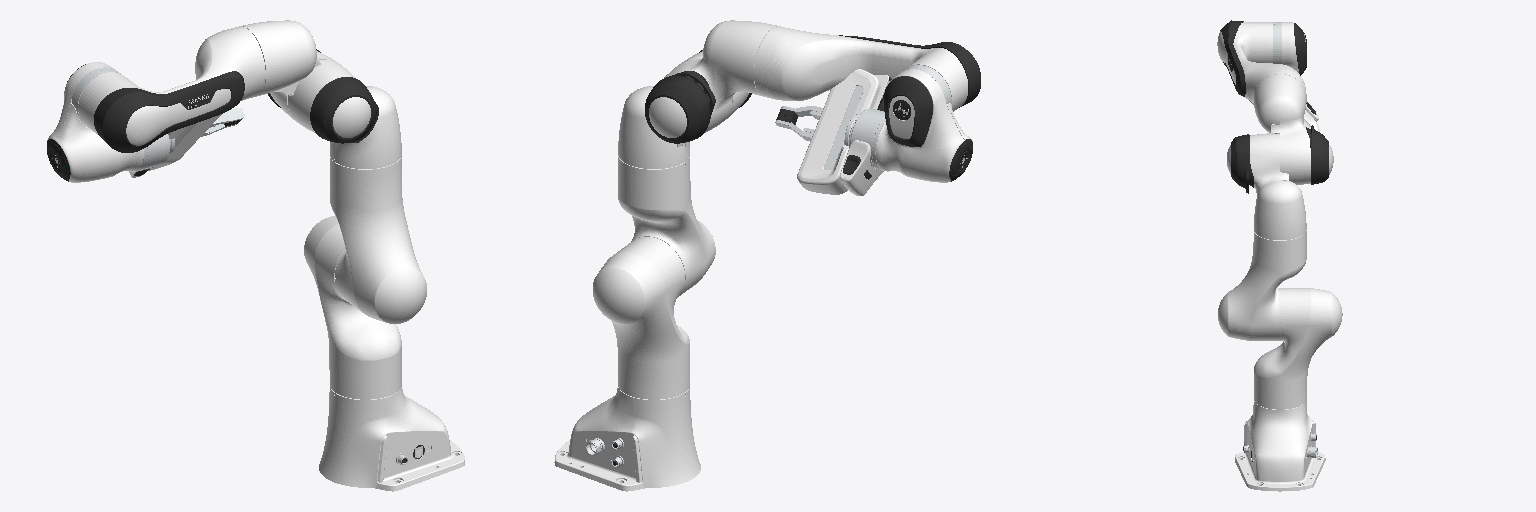
robot.urdf — freight_franka:
<?xml version="1.0" ?>
<!-- =================================================================================== -->
<!-- |    This document was autogenerated by xacro from freight_franka.xacro          | -->
<!-- |    EDITING THIS FILE BY HAND IS NOT RECOMMENDED                                 | -->
<!-- =================================================================================== -->
<robot name="freight_franka">

<!-- <link name="freight_root0">
  <inertial>
    <origin rpy="0 0 0" xyz="0 0 0"/>
    <mass value="4.00000"/>
    <inertia ixx="1e-4" ixy="0" ixz="0" iyy="1e-4" iyz="0" izz="1e-4"/>
  </inertial>
</link>
<link name="freight_root1">
  <inertial>
    <mass value="0.05"/>
    <inertia ixx="1e-4" ixy="0.0" ixz="0.0" iyy="1e-4" iyz="0.0" izz="1e-4"/>
  </inertial>
</link>
<link name="freight_root2">
  <inertial>
    <mass value="0.05"/>
    <inertia ixx="1e-4" ixy="0.0" ixz="0.0" iyy="1e-4" iyz="0.0" izz="1e-4"/>
  </inertial>
</link>
<joint name="x_joint" type="prismatic">
  <parent link="freight_root0"/>
  <child link="freight_root1"/>
  <axis xyz="1 0 0"/>
  <limit effort="8.85" lower="-0.5" upper="0.5" velocity="2.6100"/>
</joint>
<joint name="y_joint" type="prismatic">
  <parent link="freight_root1"/>
  <child link="freight_root2"/>
  <axis xyz="0 1 0"/>
  <limit effort="8.85" lower="-0.5" upper="0.5" velocity="2.6100"/>
</joint>
<joint name="z_rotation_joint" type="revolute">
  <parent link="freight_root2"/>
  <child link="base_link"/>
  <axis xyz="0 0 1"/>
  <origin rpy="-0.00000 -0.00000 0" xyz="0 0 0"/>
  <limit effort="8.85" lower="-3.14" upper="3.14" velocity="2.6100"/>
</joint> -->

<!-- <link name="root">
  <inertial>
    <origin rpy="0 0 0" xyz="0 0 0"/>
    <mass value="4.00000"/>
    <inertia ixx="1e-4" ixy="0" ixz="0" iyy="1e-4" iyz="0" izz="1e-4"/>
  </inertial>
</link> -->
<link name="freight_root0">

  </link>
  <link name="freight_root1">

  </link>
  <link name="freight_root2">
  </link>
<!-- <joint name="root" type="fixed">
  <parent link="root"/>
  <child link="freight_root0"/>
  <axis xyz="1 0 0"/>
</joint> -->

  <link name="base_link">
    <inertial>
      <origin rpy="0 0 0" xyz="-0.0036 0.0 0.0014"/>
      <mass value="1"/>
      <inertia ixx="1.225" ixy="0.0099" ixz="0.0062" iyy="1.2853" iyz="-0.0034" izz="0.987"/>
    </inertial>
    <visual>
      <origin rpy="0 0 0" xyz="0 0 0"/>
      <geometry>
        <mesh filename="../meshes/base_link.dae"/>
      </geometry>
      <material name="">
        <color rgba="0.356 0.361 0.376 1"/>
      </material>
    </visual>
    <collision>
      <origin rpy="0 0 0" xyz="0 0 0"/>
      <geometry>
        <mesh filename="../meshes/base_link_collision.STL"/>
      </geometry>
    </collision>
  </link>
  <link name="r_wheel_link">
    <inertial>
      <origin rpy="0 0 0" xyz="0 0 0"/>
      <mass value="4.3542"/>
      <inertia ixx="0.0045" ixy="0" ixz="0" iyy="0.005" iyz="0" izz="0.0045"/>
    </inertial>
    <visual>
      <origin rpy="0 0 0" xyz="0 0 0"/>
      <geometry>
        <mesh filename="../meshes/r_wheel_link.STL"/>
      </geometry>
      <material name="">
        <color rgba="0.086 0.506 0.767 1"/>
      </material>
    </visual>
    <collision>
      <origin rpy="0 0 0" xyz="0 0 0"/>
      <geometry>
        <mesh filename="../meshes/r_wheel_link_collision.STL"/>
      </geometry>
    </collision>
  </link>
  <joint name="r_wheel_joint" type="fixed">
    <origin rpy="-6.123E-17 0 0" xyz="0.0012914 -0.18738 0.055325"/>
    <parent link="base_link"/>
    <child link="r_wheel_link"/>
    <axis xyz="0 1 0"/>
    <limit effort="8.85" velocity="34.8"/>
  </joint>
  <link name="l_wheel_link">
    <inertial>
      <origin rpy="0 0 0" xyz="0 0 0"/>
      <mass value="4.3542"/>
      <inertia ixx="0.0045" ixy="0" ixz="0" iyy="0.005" iyz="0" izz="0.0045"/>
    </inertial>
    <visual>
      <origin rpy="0 0 0" xyz="0 0 0"/>
      <geometry>
        <mesh filename="../meshes/l_wheel_link.STL"/>
      </geometry>
      <material name="">
        <color rgba="0.086 0.506 0.767 1"/>
      </material>
    </visual>
    <collision>
      <origin rpy="0 0 0" xyz="0 0 0"/>
      <geometry>
        <mesh filename="../meshes/l_wheel_link_collision.STL"/>
      </geometry>
    </collision>
  </link>
  <joint name="l_wheel_joint" type="fixed">
    <origin rpy="-6.123E-17 0 0" xyz="0.0012914 0.18738 0.055325"/>
    <parent link="base_link"/>
    <child link="l_wheel_link"/>
    <axis xyz="0 1 0"/>
    <limit effort="8.85" velocity="34.8"/>
  </joint>
  <link name="estop_link">
    <inertial>
      <origin rpy="0 0 0" xyz="0.002434512737072 -0.00330608315239905 0.00665139196650039"/>
      <mass value="0.00196130439134723"/>
      <inertia ixx="3.02810026604417E-07" ixy="-1.5862023118056E-08" ixz="3.16561396557437E-08" iyy="2.93322917127605E-07" iyz="-4.28833522751273E-08" izz="2.28513272627183E-07"/>
    </inertial>
    <visual>
      <origin rpy="0 0 0" xyz="0 0 0"/>
      <geometry>
        <mesh filename="../meshes/estop_link.STL"/>
      </geometry>
      <material name="">
        <color rgba="0.8 0 0 1"/>
      </material>
    </visual>
    <collision>
      <origin rpy="0 0 0" xyz="0 0 0"/>
      <geometry>
        <mesh filename="../meshes/estop_link.STL"/>
      </geometry>
    </collision>
  </link>
  <joint name="estop_joint" type="fixed">
    <origin rpy="1.5708 0 0" xyz="-0.12465 0.23892 0.31127"/>
    <parent link="base_link"/>
    <child link="estop_link"/>
    <axis xyz="0 0 0"/>
  </joint>
  <link name="laser_link">
    <inertial>
      <origin rpy="0 0 0" xyz="-0.0306228970175641 0.0007091682908278 0.0551974119471302"/>
      <mass value="0.00833634573995571"/>
      <inertia ixx="1.01866461240801E-06" ixy="-5.88447626567756E-08" ixz="7.83857244757914E-08" iyy="5.10039589974707E-07" iyz="-7.12664289617235E-09" izz="1.28270671527309E-06"/>
    </inertial>
    <visual>
      <origin rpy="0 0 0" xyz="0 0 0"/>
      <geometry>
        <mesh filename="../meshes/laser_link.STL"/>
      </geometry>
      <material name="">
        <color rgba="0.792156862745098 0.819607843137255 0.933333333333333 1"/>
      </material>
    </visual>
    <collision>
      <origin rpy="0 0 0" xyz="0 0 0"/>
      <geometry>
        <mesh filename="../meshes/laser_link.STL"/>
      </geometry>
    </collision>
  </link>
  <joint name="laser_joint" type="fixed">
    <origin rpy="3.14159265359 0 0" xyz="0.235 0 0.2878"/>
    <parent link="base_link"/>
    <child link="laser_link"/>
    <axis xyz="0 0 0"/>
  </joint>
  <link name="base_camera_link"/>
  <joint name="base_camera_joint" type="fixed">
    <origin rpy="0 -0.17453292519943 0" xyz="0.2645 0 0.198"/>
    <parent link="base_link"/>
    <child link="base_camera_link"/>
  </joint>
  <link name="base_camera_optical_frame"/>
  <joint name="base_camera_optical_joint" type="fixed">
    <origin rpy="1.5707963267966 0 1.5707963267966" xyz="0 0 0"/>
    <parent link="base_camera_link"/>
    <child link="base_camera_optical_frame"/>
  </joint>
  <link name="panda_link0">
    <visual>
      <geometry>
        <mesh filename="../meshes/visual/link0.dae"/>
      </geometry>
    </visual>
    <collision>
      <geometry>
        <mesh filename="../meshes/collision/link0.obj"/>
      </geometry>
    </collision>
  </link>
  <link name="panda_link1">
    <visual>
      <geometry>
        <mesh filename="../meshes/visual/link1.dae"/>
      </geometry>
    </visual>
    <collision>
      <geometry>
        <mesh filename="../meshes/collision/link1.obj"/>
      </geometry>
    </collision>
  </link>
  <joint name="panda_joint1" type="revolute">
    <safety_controller k_position="100.0" k_velocity="40.0" soft_lower_limit="-2.8973" soft_upper_limit="2.8973"/>
    <origin rpy="0 0 0" xyz="0 0 0.333"/>
    <parent link="panda_link0"/>
    <child link="panda_link1"/>
    <axis xyz="0 0 1"/>
    <dynamics damping="10.0"/>
    <limit effort="87" lower="-2.8973" upper="2.8973" velocity="2.1750"/>
  </joint>
  <link name="panda_link2">
    <visual>
      <geometry>
        <mesh filename="../meshes/visual/link2.dae"/>
      </geometry>
    </visual>
    <collision>
      <geometry>
        <mesh filename="../meshes/collision/link2.obj"/>
      </geometry>
    </collision>
  </link>
  <joint name="panda_joint2" type="revolute">
    <safety_controller k_position="100.0" k_velocity="40.0" soft_lower_limit="-1.7628" soft_upper_limit="1.7628"/>
    <origin rpy="-1.57079632679 0 0" xyz="0 0 0"/>
    <parent link="panda_link1"/>
    <child link="panda_link2"/>
    <axis xyz="0 0 1"/>
    <dynamics damping="10.0"/>
    <limit effort="87" lower="-1.7628" upper="1.7628" velocity="2.1750"/>
  </joint>
  <link name="panda_link3">
    <visual>
      <geometry>
        <mesh filename="../meshes/visual/link3.dae"/>
      </geometry>
    </visual>
    <collision>
      <geometry>
        <mesh filename="../meshes/collision/link3.obj"/>
      </geometry>
    </collision>
  </link>
  <joint name="panda_joint3" type="revolute">
    <safety_controller k_position="100.0" k_velocity="40.0" soft_lower_limit="-2.8973" soft_upper_limit="2.8973"/>
    <origin rpy="1.57079632679 0 0" xyz="0 -0.316 0"/>
    <parent link="panda_link2"/>
    <child link="panda_link3"/>
    <axis xyz="0 0 1"/>
    <dynamics damping="10.0"/>
    <limit effort="87" lower="-2.8973" upper="2.8973" velocity="2.1750"/>
  </joint>
  <link name="panda_link4">
    <visual>
      <geometry>
        <mesh filename="../meshes/visual/link4.dae"/>
      </geometry>
    </visual>
    <collision>
      <geometry>
        <mesh filename="../meshes/collision/link4.obj"/>
      </geometry>
    </collision>
  </link>
  <joint name="panda_joint4" type="revolute">
    <safety_controller k_position="100.0" k_velocity="40.0" soft_lower_limit="-3.0718" soft_upper_limit="-0.0698"/>
    <origin rpy="1.57079632679 0 0" xyz="0.0825 0 0"/>
    <parent link="panda_link3"/>
    <child link="panda_link4"/>
    <axis xyz="0 0 1"/>
    <dynamics damping="10.0"/>
    <limit effort="87" lower="-3.0718" upper="-0.0698" velocity="2.1750"/>
  </joint>
  <link name="panda_link5">
    <visual>
      <geometry>
        <mesh filename="../meshes/visual/link5.dae"/>
      </geometry>
    </visual>
    <collision>
      <geometry>
        <mesh filename="../meshes/collision/link5.obj"/>
      </geometry>
    </collision>
  </link>
  <joint name="panda_joint5" type="revolute">
    <safety_controller k_position="100.0" k_velocity="40.0" soft_lower_limit="-2.8973" soft_upper_limit="2.8973"/>
    <origin rpy="-1.57079632679 0 0" xyz="-0.0825 0.384 0"/>
    <parent link="panda_link4"/>
    <child link="panda_link5"/>
    <axis xyz="0 0 1"/>
    <dynamics damping="10.0"/>
    <limit effort="12" lower="-2.8973" upper="2.8973" velocity="2.6100"/>
  </joint>
  <link name="panda_link6">
    <visual>
      <geometry>
        <mesh filename="../meshes/visual/link6.dae"/>
      </geometry>
    </visual>
    <collision>
      <geometry>
        <mesh filename="../meshes/collision/link6.obj"/>
      </geometry>
    </collision>
  </link>
  <joint name="panda_joint6" type="revolute">
    <safety_controller k_position="100.0" k_velocity="40.0" soft_lower_limit="-0.0175" soft_upper_limit="3.7525"/>
    <origin rpy="1.57079632679 0 0" xyz="0 0 0"/>
    <parent link="panda_link5"/>
    <child link="panda_link6"/>
    <axis xyz="0 0 1"/>
    <dynamics damping="10.0"/>
    <limit effort="12" lower="-0.0175" upper="3.7525" velocity="2.6100"/>
  </joint>
  <link name="panda_link7">
    <visual>
      <geometry>
        <mesh filename="../meshes/visual/link7.dae"/>
      </geometry>
    </visual>
    <collision>
      <geometry>
        <mesh filename="../meshes/collision/link7.obj"/>
      </geometry>
    </collision>
  </link>
  <joint name="panda_joint7" type="revolute">
    <safety_controller k_position="100.0" k_velocity="40.0" soft_lower_limit="-2.8973" soft_upper_limit="2.8973"/>
    <origin rpy="1.57079632679 0 0" xyz="0.088 0 0"/>
    <parent link="panda_link6"/>
    <child link="panda_link7"/>
    <axis xyz="0 0 1"/>
    <dynamics damping="10.0"/>
    <limit effort="12" lower="-2.8973" upper="2.8973" velocity="2.6100"/>
    <!-- note -->
  </joint>
  <!--
    <link name="panda_link8"/>
    <joint name="panda_joint8" type="fixed">
        <origin rpy="0 0 0" xyz="0 0 0.107"/>
        <parent link="panda_link7"/>
        <child link="panda_link8"/>
        <axis xyz="0 0 0"/>
    </joint>
    -->
  <joint name="panda_hand_joint" type="fixed">
    <parent link="panda_link7"/>
    <child link="panda_hand"/>
    <origin rpy="0 0 -0.785398163397" xyz="0 0 0.107"/>
  </joint>
  <link name="panda_hand">
    <visual>
      <geometry>
        <mesh filename="../meshes/visual/hand.dae"/>
      </geometry>
    </visual>
    <collision>
      <geometry>
        <mesh filename="../meshes/collision/hand.obj"/>
      </geometry>
    </collision>
  </link>
  <link name="panda_leftfinger">
    <visual>
      <geometry>
        <mesh filename="../meshes/visual/finger.dae" scale="1 1 1.5"/>
      </geometry>
    </visual>
    <collision>
      <geometry>
        <mesh filename="../meshes/collision/finger.obj" scale="1 1 1.5"/>
      </geometry>
    </collision>
  </link>
  <link name="panda_rightfinger">
    <visual>
      <origin rpy="0 0 3.14159265359" xyz="0 0 0"/>
      <geometry>
        <mesh filename="../meshes/visual/finger.dae" scale="1 1 1.5"/>
      </geometry>
    </visual>
    <collision>
      <origin rpy="0 0 3.14159265359" xyz="0 0 0"/>
      <geometry>
        <mesh filename="../meshes/collision/finger.obj" scale="1 1 1.5"/>
      </geometry>
    </collision>
  </link>
  <joint name="panda_finger_joint1" type="prismatic">
    <parent link="panda_hand"/>
    <child link="panda_leftfinger"/>
    <origin rpy="0 0 0" xyz="0 0 0.0584"/>
    <axis xyz="0 1 0"/>
    <dynamics damping="10.0"/>
    <limit effort="100" lower="0.0" upper="0.04" velocity="1.0"/>
  </joint>
  <joint name="panda_finger_joint2" type="prismatic">
    <parent link="panda_hand"/>
    <child link="panda_rightfinger"/>
    <origin rpy="0 0 0" xyz="0 0 0.0584"/>
    <axis xyz="0 -1 0"/>
    <dynamics damping="10.0"/>
    <limit effort="100" lower="0.0" upper="0.04" velocity="1.0"/>
    <mimic joint="panda_finger_joint1"/>
  </joint>

  <!-- Connect the two robots together here -->
  <joint name="base_link_connection" type="fixed">
    <parent link="base_link"/>
    <child link="panda_link0"/>
    <origin rpy="0 0 3.14159" xyz="0 0 0.36"/>
  </joint>

  <!-- <link name="freight_root0">
    <inertial>
      <origin rpy="0 0 0" xyz="0 0 0"/>
      <mass value="4.00000"/>
      <inertia ixx="1e-4" ixy="0" ixz="0" iyy="1e-4" iyz="0" izz="1e-4"/>
    </inertial>
  </link>
  <link name="freight_root1">
    <inertial>
      <mass value="0.05"/>
      <inertia ixx="1e-4" ixy="0.0" ixz="0.0" iyy="1e-4" iyz="0.0" izz="1e-4"/>
    </inertial>
  </link>
  <link name="freight_root2">
    <inertial>
      <mass value="0.05"/>
      <inertia ixx="1e-4" ixy="0.0" ixz="0.0" iyy="1e-4" iyz="0.0" izz="1e-4"/>
    </inertial>
  </link>
  <joint name="x_joint" type="prismatic">
    <parent link="freight_root0"/>
    <child link="freight_root1"/>
    <axis xyz="1 0 0"/>
    <limit lower="-0.5" upper="0.5"/>
  </joint>
  <joint name="y_joint" type="prismatic">
    <parent link="freight_root1"/>
    <child link="freight_root2"/>
    <axis xyz="0 1 0"/>
    <limit lower="-0.5" upper="0.5"/>
  </joint>
  <joint name="z_rotation_joint" type="revolute">
    <parent link="freight_root2"/>
    <child link="base_link"/>
    <axis xyz="0 0 1"/>
    <origin rpy="-0.00000 -0.00000 0" xyz="0 0 0"/>
    <limit lower="-3.14" upper="3.14"/>
  </joint> -->

  <joint name="x_joint" type="prismatic">
    <parent link="freight_root0"/>
    <child link="freight_root1"/>
    <axis xyz="1 0 0"/>
    <dynamics damping="10.0"/>
    <limit lower="-1" upper="1" velocity="1.0"/>

  </joint>
  <joint name="y_joint" type="prismatic">
    <parent link="freight_root1"/>
    <child link="freight_root2"/>
    <axis xyz="0 1 0"/>
    <dynamics damping="10.0"/>
    <limit lower="-1" upper="1" velocity="0.3"/>
  </joint>
  <joint name="z_rotation_joint" type="revolute">
    <parent link="freight_root2"/>
    <child link="base_link"/>
    <axis xyz="0 0 1"/>
    <origin rpy="-0.00000 -0.00000 0" xyz="0 0 0"/>
    <limit lower="-3.14" upper="3.14" velocity="1.0"/>
  </joint>

</robot>

--- Facts derived from the render (not from the file) ---
3 views of the same robot in one strip: view 1: azimuth 30°, elevation 25°; view 2: azimuth 150°, elevation 25°; view 3: azimuth 270°, elevation 25° (orthographic).
Model freight_franka with 21 links and 20 joints (8 revolute, 4 prismatic, 8 fixed), rooted at freight_root0, posed joints at zero except 1 at the middle of their limits (panda_joint4 = -1.57).
Links seen in each view (by area): view 1: panda_link5, panda_link2, panda_link0, panda_link1, panda_link3, panda_link6, panda_link4, panda_hand, panda_link7; view 2: panda_link1, panda_link0, panda_link5, panda_link4, panda_link6, panda_link2, panda_hand, panda_link3, panda_link7; view 3: panda_link1, panda_link0, panda_link2, panda_link3, panda_link4, panda_link5, panda_link6.
Link boxes in pixels (bbox=[...]): panda_link5: bbox=[78, 26, 265, 152]; panda_link2: bbox=[330, 156, 426, 323]; panda_link0: bbox=[319, 387, 464, 491]; panda_link1: bbox=[304, 216, 401, 399]; panda_link3: bbox=[288, 60, 401, 168]; panda_link6: bbox=[47, 62, 143, 182]; panda_link4: bbox=[243, 20, 337, 119]; panda_hand: bbox=[148, 114, 221, 170]; panda_link7: bbox=[129, 134, 170, 177]; panda_link1: bbox=[593, 237, 689, 399]; panda_link0: bbox=[554, 387, 700, 491]; panda_link5: bbox=[754, 26, 980, 111]; panda_link4: bbox=[645, 20, 776, 143]; panda_link6: bbox=[876, 65, 972, 182]; panda_link2: bbox=[618, 156, 715, 295]; panda_hand: bbox=[797, 69, 891, 194]; panda_link3: bbox=[618, 50, 751, 168]; panda_link7: bbox=[840, 106, 885, 195]; panda_link1: bbox=[1254, 288, 1342, 409]; panda_link0: bbox=[1235, 400, 1325, 491]; panda_link2: bbox=[1218, 230, 1306, 340]; panda_link3: bbox=[1227, 133, 1306, 239]; panda_link4: bbox=[1254, 74, 1333, 184]; panda_link5: bbox=[1217, 20, 1306, 102]; panda_link6: bbox=[1273, 22, 1306, 75].
Size in the robot's own frame: 0.7022 by 0.2593 by 0.7865 metres.
Meshes: 15 distinct files referenced, 11 mesh visuals loaded (10 Collada DAE); not drawn: 5 (reference not matched to a file when rendering).